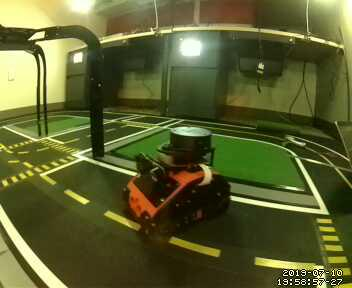pheeno: (123, 118, 238, 237)
